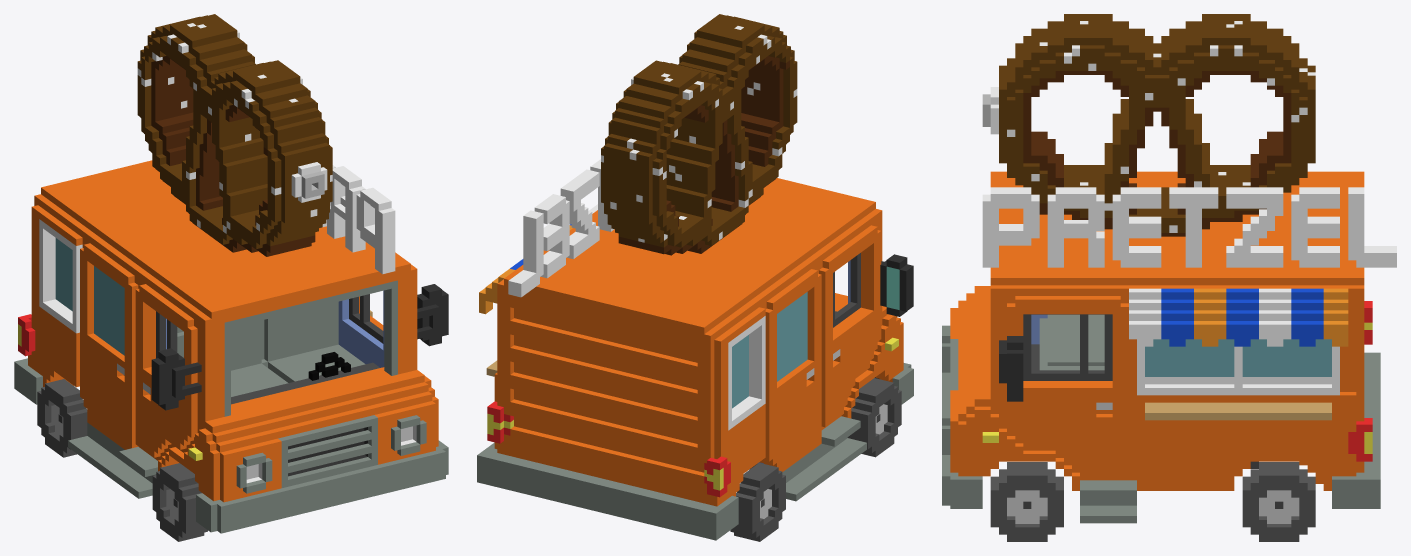
The model's file is camion_pretzel.fbx.
The picture shows the model from 3 angles, left to right: view 1: azimuth 30°, elevation 25°; view 2: azimuth 150°, elevation 25°; view 3: azimuth 270°, elevation 25°; orthographic projection. The views are drawn at different scales.
Visible parts, largest first — view 1: camion_pretzel; view 2: camion_pretzel; view 3: camion_pretzel.
Boxes of the visible parts, x1,y1,x2,y2 form: camion_pretzel: [14, 14, 448, 541]; camion_pretzel: [477, 14, 913, 541]; camion_pretzel: [942, 14, 1396, 541].
Size of the model in its own units: 450 by 610 by 560.
Materials: 1 (1 with a texture image).
